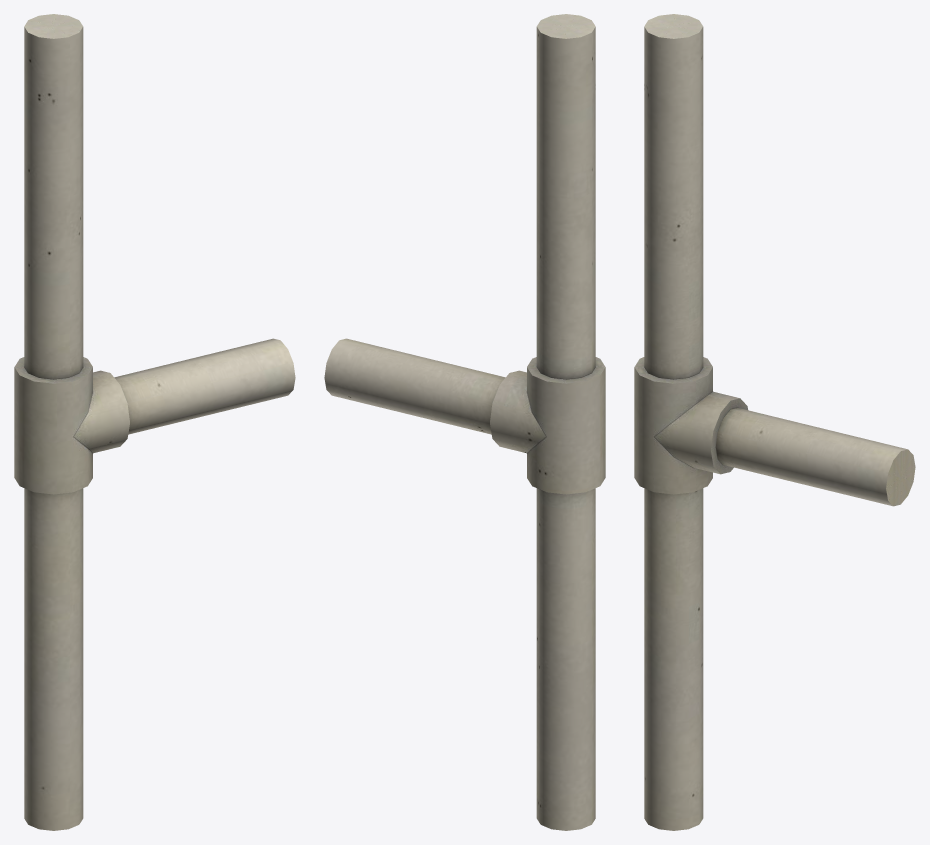
File: pipe_tee_web.glb
The picture shows the model from 3 angles, left to right: view 1: azimuth 30°, elevation 25°; view 2: azimuth 150°, elevation 25°; view 3: azimuth 330°, elevation 25°; orthographic projection.
Visible parts, largest first — view 1: PipeTee_Body; view 2: PipeTee_Body; view 3: PipeTee_Body.
Part boxes in pixels (x1=…): PipeTee_Body: x1=14, y1=14, x2=295, y2=830; PipeTee_Body: x1=324, y1=14, x2=605, y2=830; PipeTee_Body: x1=634, y1=14, x2=915, y2=830.
Size of the model in its own units: 0.138 by 0.4 by 0.036.
1 material, 1 textured.
